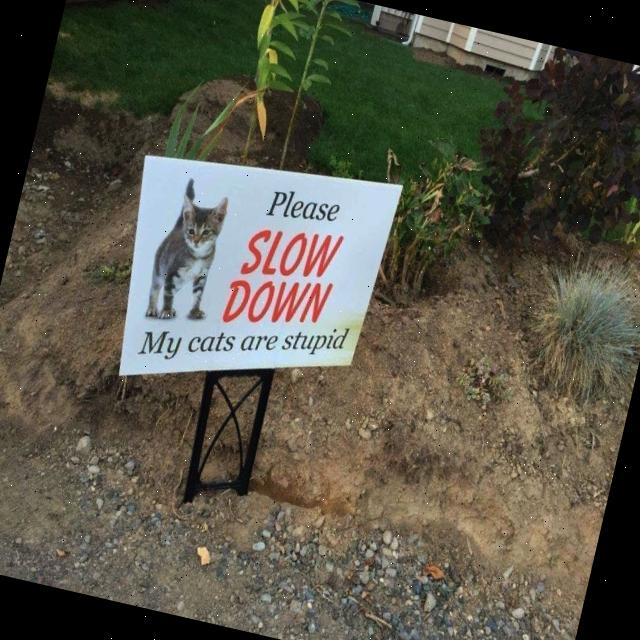cat: (128, 160, 242, 337)
